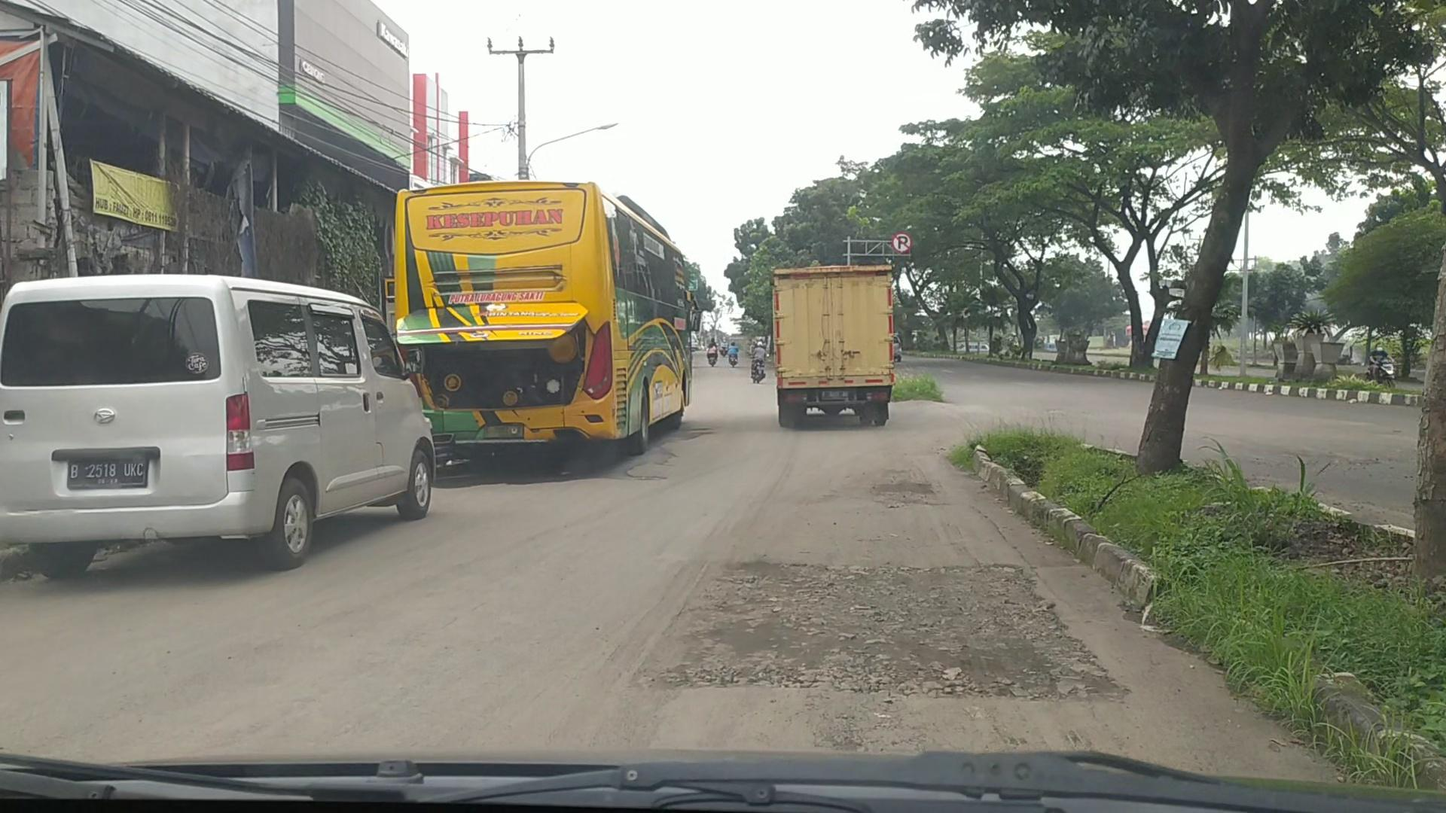pothole: (647, 558, 1122, 697)
